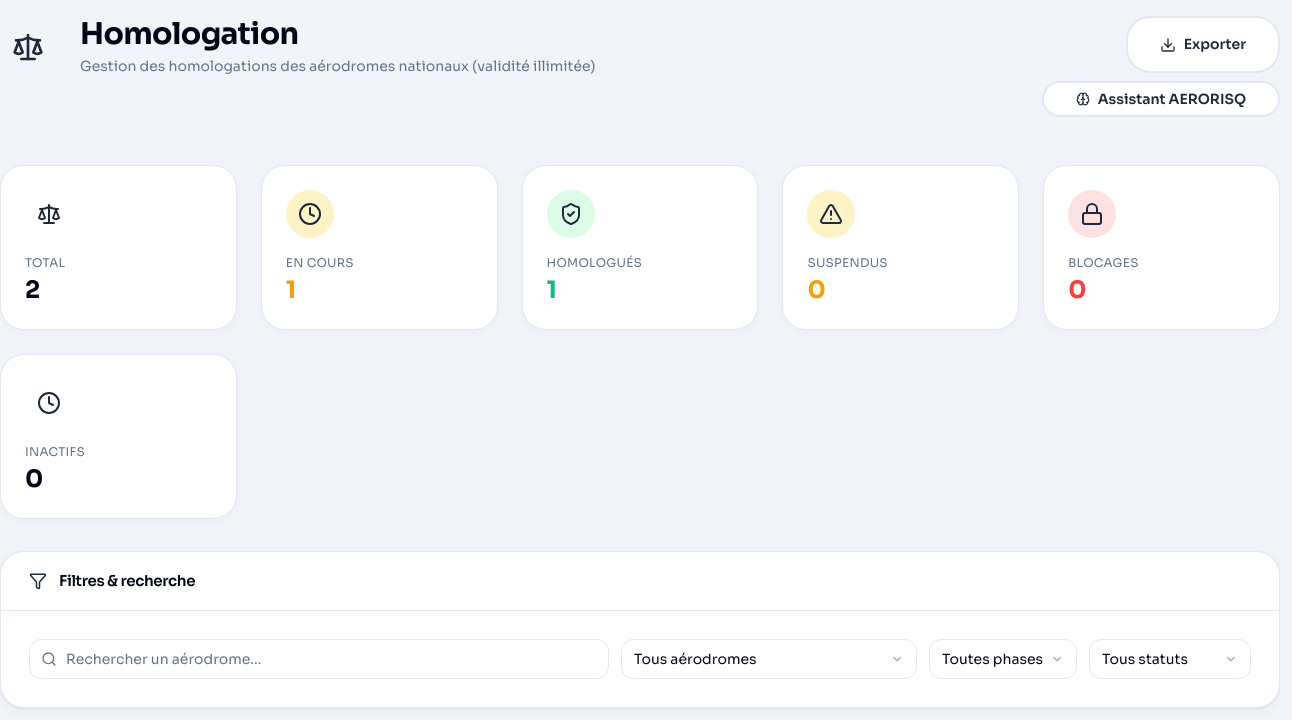
Test: HomologationModule › Recherche textuelle › affiche le message vide si aucun résultat
Type "xxxxxx_inexistant" into the field with placeholder "Rechercher un aérodrome...". click: [319, 659]
box: [29,639,609,679]
(page scrolled)
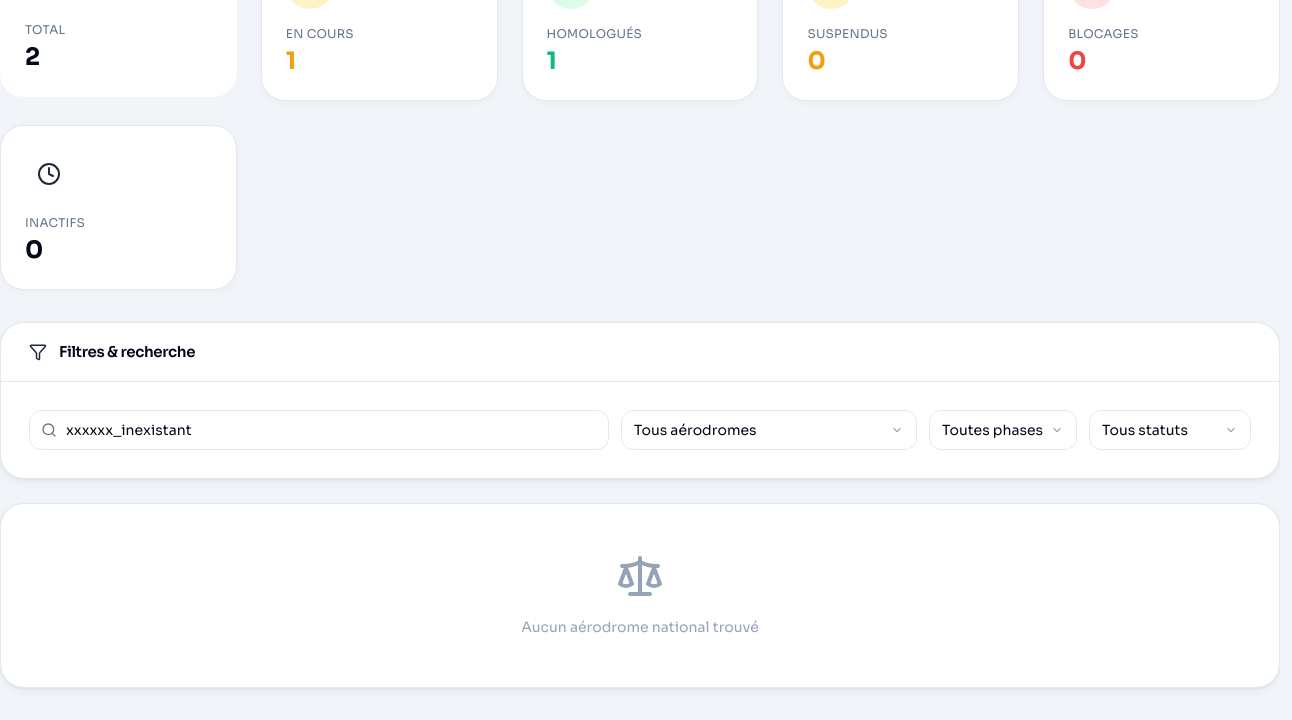
Expected: the text "Aucun aérodrome national trouvé" is shown, [521,618,759,636]
